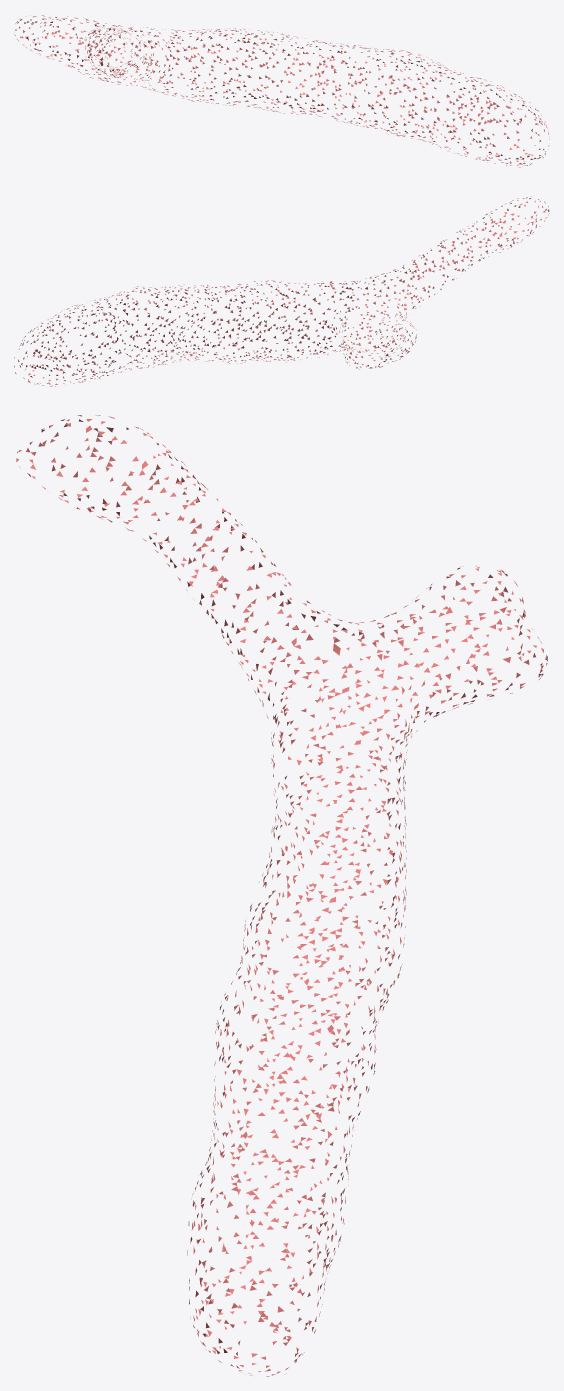
File: morph_000.glb
3 views of the same model, one above another, from view 1: azimuth 30°, elevation 25°; view 2: azimuth 150°, elevation 25°; view 3: azimuth 270°, elevation 25° (orthographic). The views are drawn at different scales.
Size of the model in its own units: 119 by 62.24 by 57.49.
